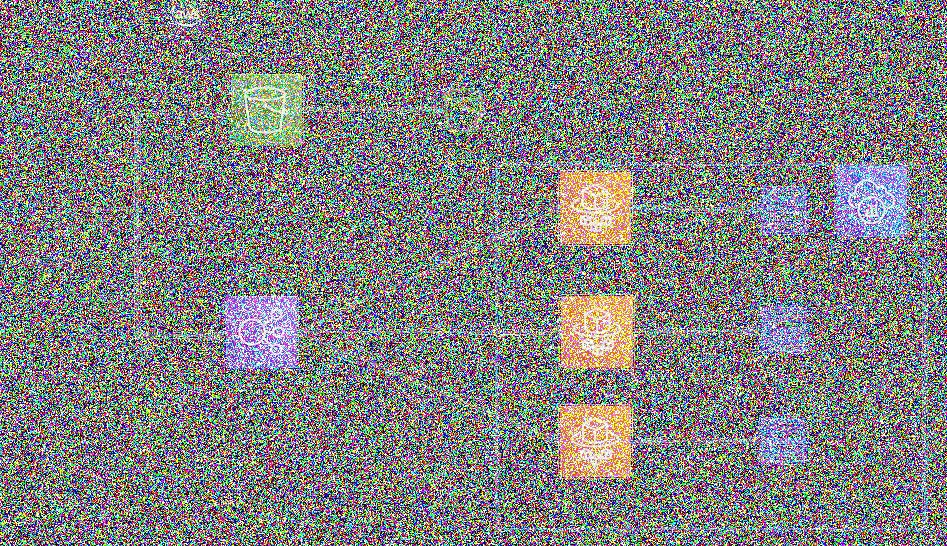ELB: (223, 290, 301, 371)
Fargate: (556, 168, 635, 245), (555, 404, 634, 480), (561, 294, 635, 369)
S3: (229, 72, 307, 147), (443, 84, 485, 135)
Table: (755, 175, 812, 239), (758, 298, 816, 357), (756, 410, 814, 469)
Users: (25, 181, 82, 239)
X-Ray: (835, 161, 908, 242)
aws: (169, 1, 205, 34)
